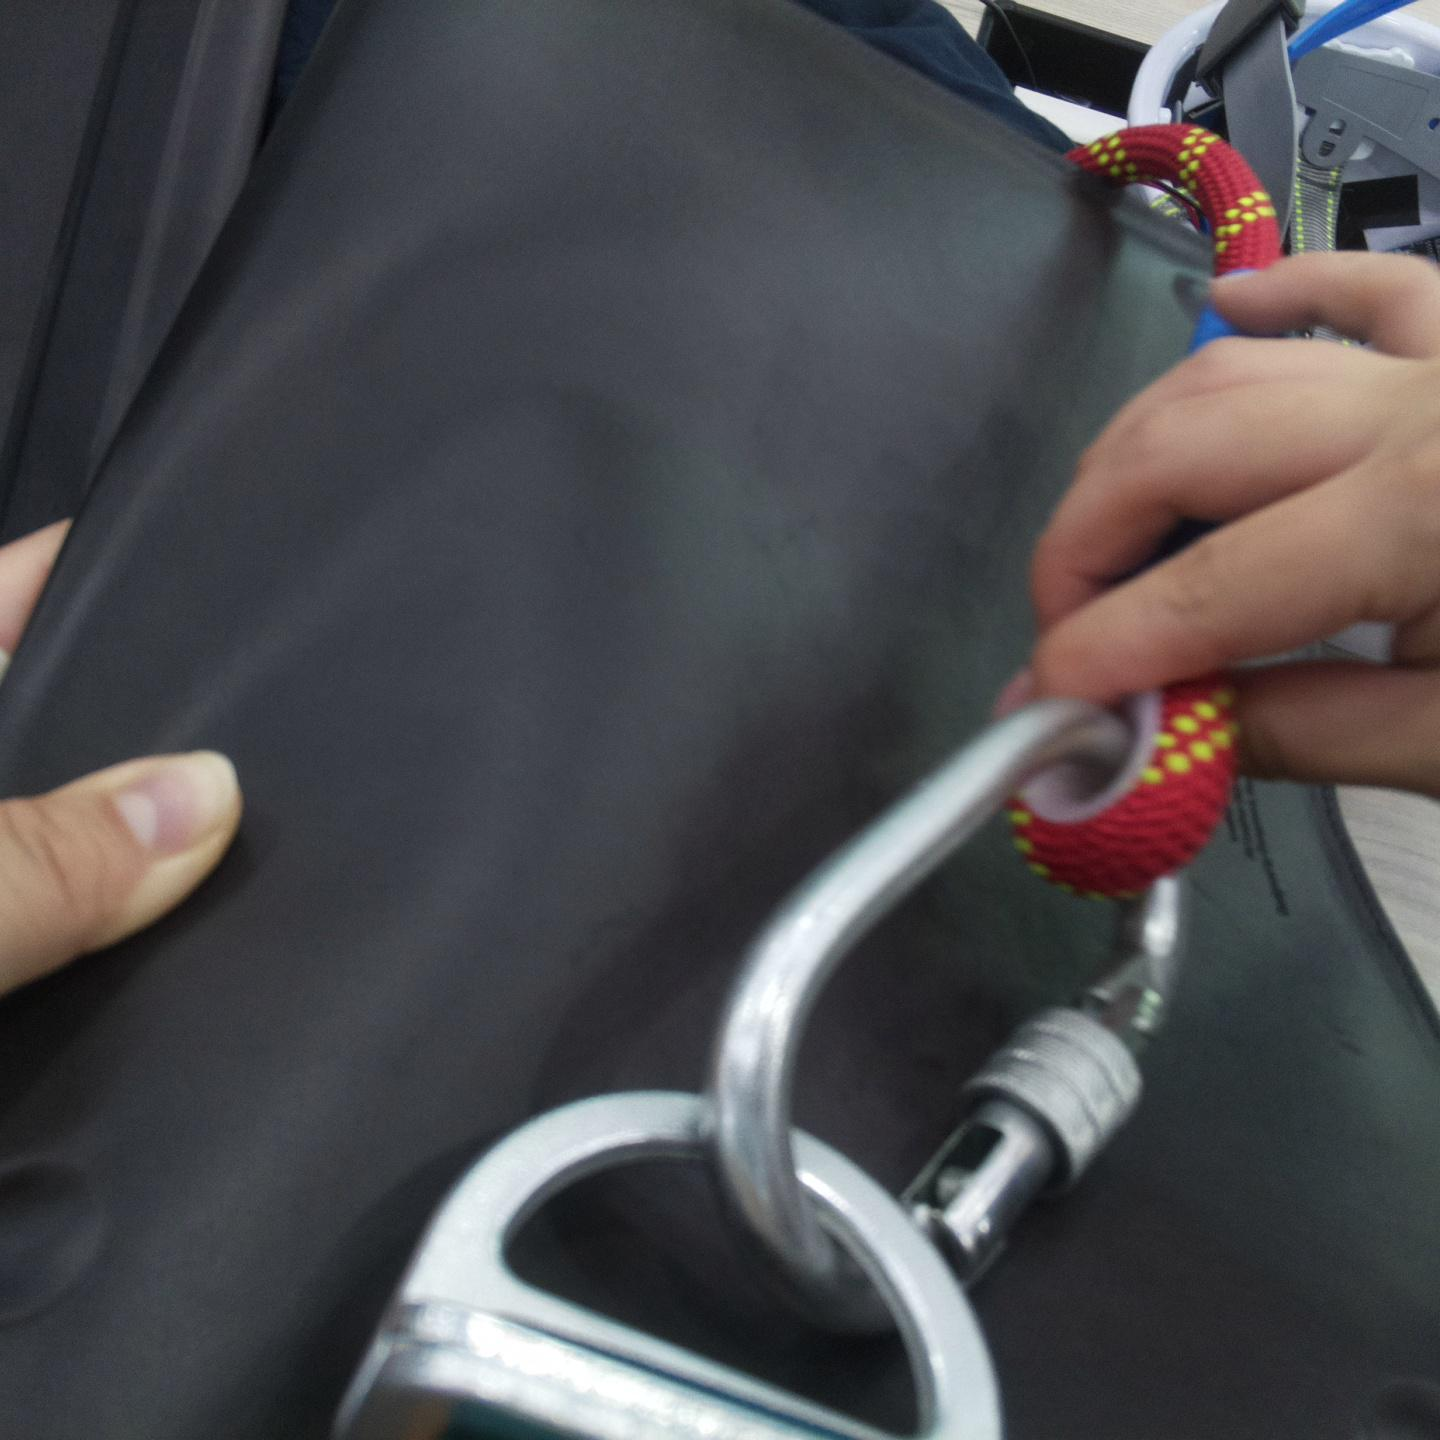SUCCESS: (339, 889, 1067, 1431), (694, 828, 719, 887)
